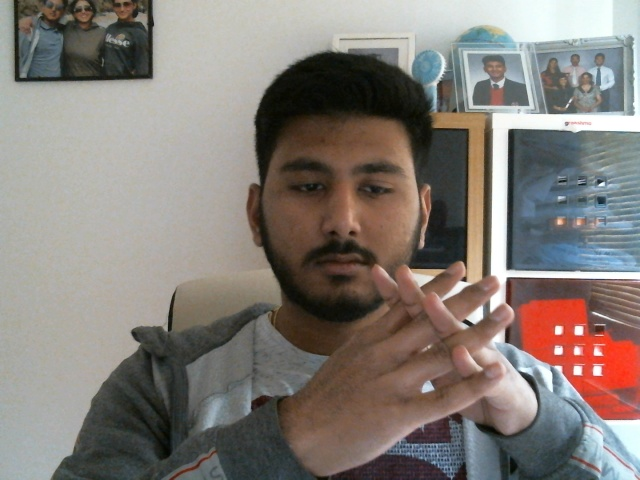how: (344, 260, 517, 411)
